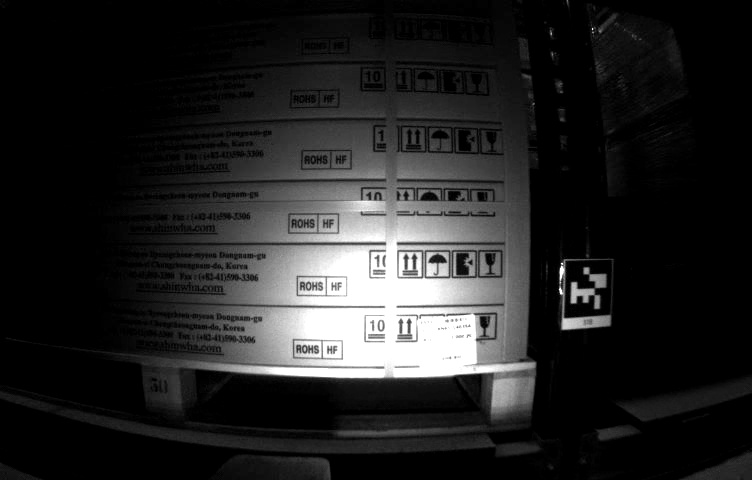True Barcode: (418, 311, 474, 367)
